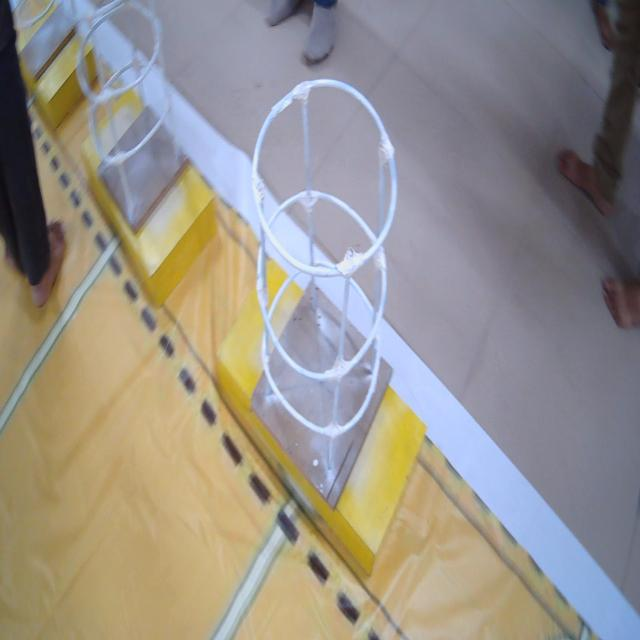silo: (233, 56, 412, 453), (64, 0, 189, 231)
